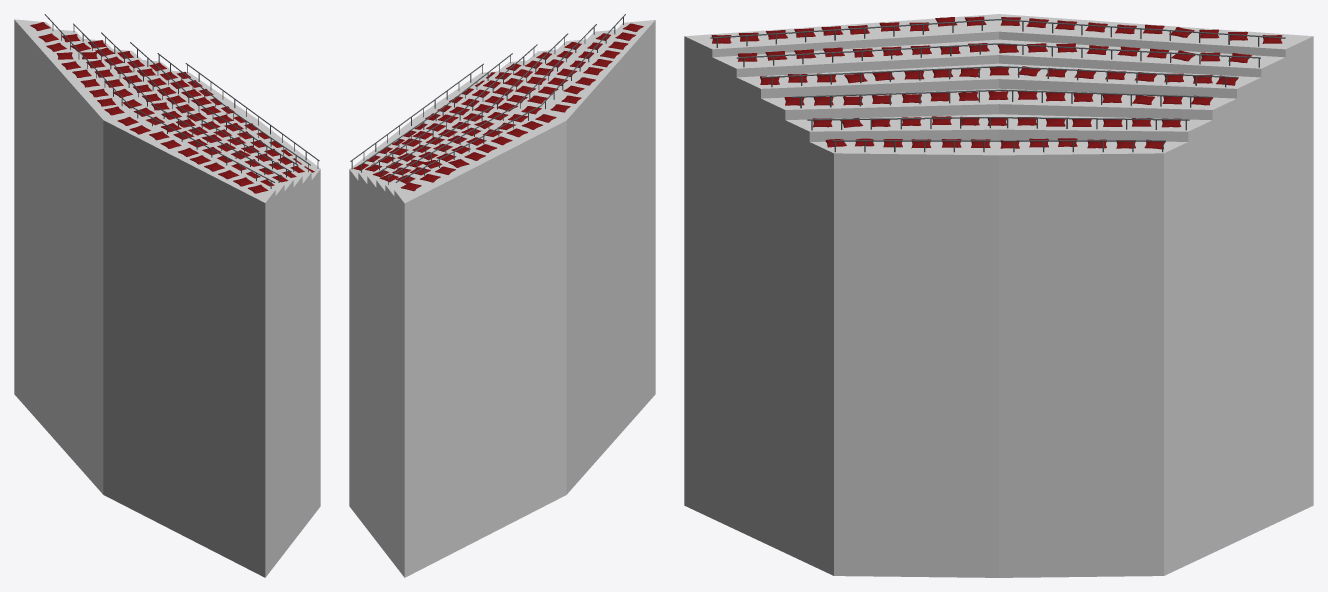
Rendered from Stands.fbx.
3 renders of one model, left to right at view 1: azimuth 30°, elevation 25°; view 2: azimuth 150°, elevation 25°; view 3: azimuth 270°, elevation 25°, orthographic. The views are drawn at different scales.
Visible parts, largest first — view 1: Cube.001; view 2: Cube.001; view 3: Cube.001.
Boxes of the visible parts, x1=… form: Cube.001: x1=14, y1=14, x2=320, y2=577; Cube.001: x1=349, y1=14, x2=655, y2=577; Cube.001: x1=684, y1=14, x2=1313, y2=577.
Size of the model in its own units: 2752 by 6518 by 7739.
